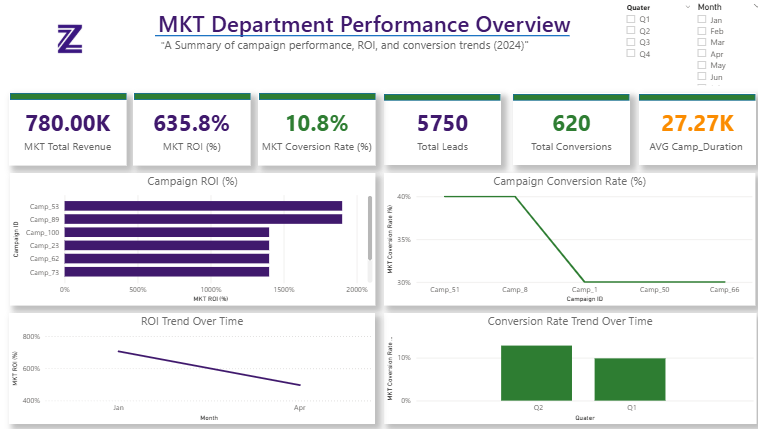

The page's visual inventory and layout, read from the dashboard file:
{"tool":"powerbi","page":{"name":"MKT","canvas":[1280,720],"ordinal":3},"visuals":[{"type":"textbox","box":[258.6,10,762.9,102.9],"z":0},{"type":"shape","box":[258.9,44.4,691.1,32.2],"z":1000},{"type":"group","id":"g1","title":"Group 1","box":[14.3,157.1,195.7,121.4],"z":2000},{"type":"card","fields":{"Values":["Sum(Marketing.Leads)"]},"box":[640.3,156.7,195.4,120],"z":3000,"group":"g3"},{"type":"card","fields":{"Values":["Sum(Marketing.Revenue)"]},"box":[14.3,157.1,195.8,121],"z":3000,"group":"g1"},{"type":"group","id":"g2","title":"Group 2","box":[221.4,157.1,195.7,121.4],"z":3000},{"type":"card","fields":{"Values":["Marketing.MKT ROI (%)"]},"box":[221.4,157.1,195.8,121],"z":3000,"group":"g2"},{"type":"card","fields":{"Values":["Marketing.MKT Coversion Rate (%)"]},"box":[430,157.1,195.8,121],"z":3000,"group":"g7"},{"type":"card","fields":{"Values":["Sum(Marketing.Conversions)"]},"box":[854.3,157.1,195.4,120],"z":3000,"group":"g4"},{"type":"card","fields":{"Values":["Sum(Marketing.Average Campaign Duration (Days))"]},"box":[1065.7,157.1,195.4,120],"z":3000,"group":"g5"},{"type":"group","id":"g3","title":"Group 3","box":[640.3,156.7,195.4,120],"z":3004,"group":"g6"},{"type":"group","id":"g4","title":"Group 3","box":[854.3,157.1,195.4,120],"z":3004,"group":"g8"},{"type":"group","id":"g5","title":"Group 3","box":[1065.7,157.1,195.4,120],"z":3004,"group":"g9"},{"type":"group","id":"g6","title":"Group 2","box":[640.3,156.7,195.4,120],"z":4000},{"type":"shape","box":[222.8,157.1,194.4,11.5],"z":5000,"group":"g2"},{"type":"group","id":"g7","title":"Group 2","box":[430,157.1,194.3,120],"z":5000},{"type":"shape","box":[431.4,157.1,194.4,11.5],"z":5000,"group":"g7"},{"type":"shape","box":[640.3,158.7,193.8,10.8],"z":5000,"group":"g3"},{"type":"shape","box":[854.3,159.1,193.8,10.8],"z":5000,"group":"g4"},{"type":"shape","box":[1065.7,159.1,193.8,10.8],"z":5000,"group":"g5"},{"type":"shape","box":[15.7,157.1,194.4,11.5],"z":5500,"group":"g1"},{"type":"group","id":"g8","title":"Group 2","box":[854.3,157.1,194.3,120],"z":6000},{"type":"group","id":"g9","title":"Group 2","box":[1065.7,157.1,195.7,120],"z":7000},{"type":"barChart","title":"Campaign ROI (%)","fields":{"Category":["Marketing.Campaign ID"],"Y":["Marketing.MKT ROI (%)"]},"box":[16.4,289.6,609,220.9],"z":8000},{"type":"lineChart","title":"Campaign Conversion Rate (%)","fields":{"Y":["Marketing.MKT Coversion Rate (%)"],"Category":["Marketing.Campaign ID"]},"box":[640.3,289.6,619.4,220.9],"z":9000},{"type":"lineClusteredColumnComboChart","title":"Conversion Rate Trend Over Time","fields":{"Y":["Marketing.MKT Coversion Rate (%)"],"Category":["Date.Quater"]},"box":[640.3,523.9,620.9,185.1],"z":10000},{"type":"lineChart","title":"ROI Trend Over Time","fields":{"Category":["Date.Month"],"Y":["Marketing.MKT ROI (%)"]},"box":[14.9,523.9,610.4,185.1],"z":11000},{"type":"slicer","fields":{"Values":["Date.Quater"]},"box":[1031.3,0,132.8,146.3],"z":12000},{"type":"slicer","fields":{"Values":["Date.Month"]},"box":[1149.3,0,131.3,149.3],"z":13000},{"type":"image","box":[0,0,232.2,133.3],"z":14000}]}

Visuals, with their boxes in screenshot pixels (x1, y1, x2, y2), scaled from the page's 1280x720 canvas onto the 758x429 screenshot:
textbox: select_region(153, 6, 605, 67)
shape: select_region(153, 26, 563, 46)
"Group 1" group: select_region(8, 94, 124, 166)
card - Sum(Marketing.Leads): select_region(379, 93, 495, 165)
card - Sum(Marketing.Revenue): select_region(8, 94, 124, 166)
"Group 2" group: select_region(131, 94, 247, 166)
card - Marketing.MKT ROI (%): select_region(131, 94, 247, 166)
card - Marketing.MKT Coversion Rate (%): select_region(255, 94, 371, 166)
card - Sum(Marketing.Conversions): select_region(506, 94, 622, 165)
card - Sum(Marketing.Average Campaign Duration (Days)): select_region(631, 94, 747, 165)
"Group 3" group: select_region(379, 93, 495, 165)
"Group 3" group: select_region(506, 94, 622, 165)
"Group 3" group: select_region(631, 94, 747, 165)
"Group 2" group: select_region(379, 93, 495, 165)
shape: select_region(132, 94, 247, 100)
"Group 2" group: select_region(255, 94, 370, 165)
shape: select_region(255, 94, 371, 100)
shape: select_region(379, 95, 494, 101)
shape: select_region(506, 95, 621, 101)
shape: select_region(631, 95, 746, 101)
shape: select_region(9, 94, 124, 100)
"Group 2" group: select_region(506, 94, 621, 165)
"Group 2" group: select_region(631, 94, 747, 165)
"Campaign ROI (%)" barChart: select_region(10, 173, 370, 304)
"Campaign Conversion Rate (%)" lineChart: select_region(379, 173, 746, 304)
"Conversion Rate Trend Over Time" lineClusteredColumnComboChart: select_region(379, 312, 747, 422)
"ROI Trend Over Time" lineChart: select_region(9, 312, 370, 422)
slicer - Date.Quater: select_region(611, 0, 689, 87)
slicer - Date.Month: select_region(681, 0, 757, 89)
image: select_region(0, 0, 138, 79)
